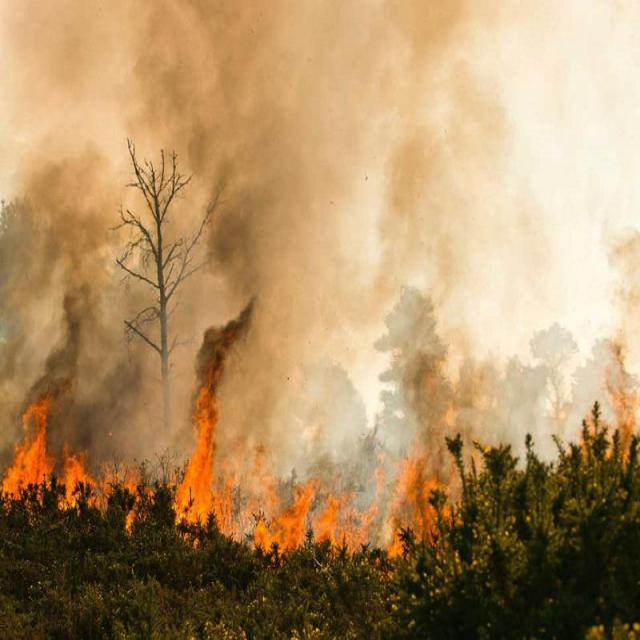Fire: (12, 414, 466, 568)
